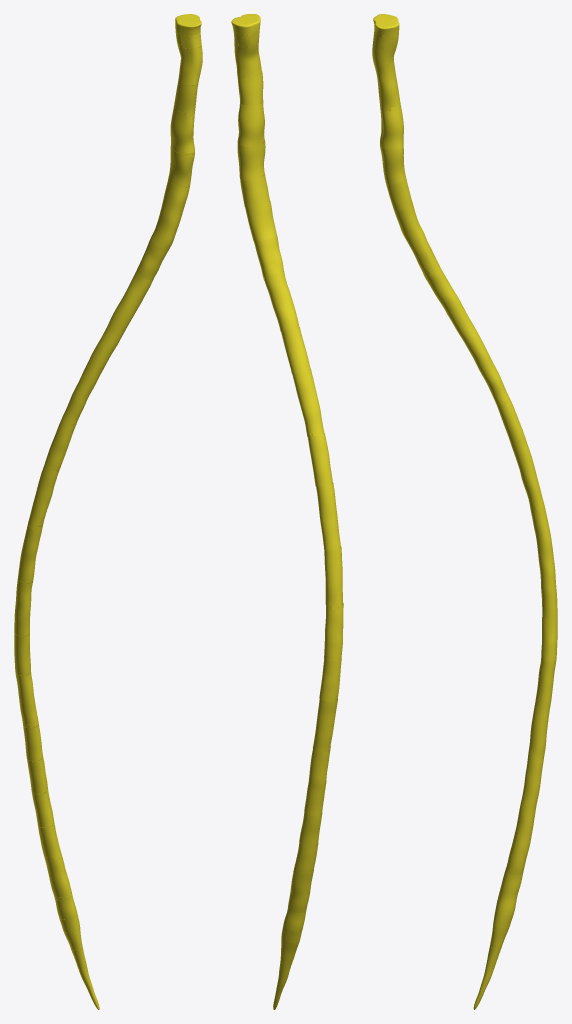
Rendered from VH_M_Spinal_Cord.fbx.
3 renders of one model, left to right at view 1: azimuth 90°, elevation 25°; view 2: azimuth 210°, elevation 25°; view 3: azimuth 270°, elevation 25°, orthographic. The views are drawn at different scales.
Visible parts, largest first — view 1: VH_M_second_thoracic_spinal_cord_segment, VH_M_fourth_thoracic_spinal_cord_segment, VH_M_sixth_thoracic_spinal_cord_segment, VH_M_C5_segment_of_cervical_spinal_cord, VH_M_seventh_thoracic_spinal_cord_segment, VH_M_eighth_thoracic_spinal_cord_segment, VH_M_tenth_thoracic_spinal_cord_segment, VH_M_C3_segment_of_cervical_spinal_cord, VH_M_fifth_thoracic_spinal_cord_segment, VH_M_C8_segment_of_cervical_spinal_cord, VH_M_C6_segment_of_cervical_spinal_cord, VH_M_third_thoracic_spinal_cord_segment (+9 smaller); view 2: VH_M_fourth_thoracic_spinal_cord_segment, VH_M_second_thoracic_spinal_cord_segment, VH_M_sixth_thoracic_spinal_cord_segment, VH_M_C5_segment_of_cervical_spinal_cord, VH_M_seventh_thoracic_spinal_cord_segment, VH_M_eighth_thoracic_spinal_cord_segment, VH_M_fifth_thoracic_spinal_cord_segment, VH_M_tenth_thoracic_spinal_cord_segment, VH_M_C8_segment_of_cervical_spinal_cord, VH_M_C6_segment_of_cervical_spinal_cord, VH_M_third_thoracic_spinal_cord_segment, VH_M_first_thoracic_spinal_cord_segment (+13 smaller); view 3: VH_M_second_thoracic_spinal_cord_segment, VH_M_fourth_thoracic_spinal_cord_segment, VH_M_sixth_thoracic_spinal_cord_segment, VH_M_C5_segment_of_cervical_spinal_cord, VH_M_tenth_thoracic_spinal_cord_segment, VH_M_seventh_thoracic_spinal_cord_segment, VH_M_eighth_thoracic_spinal_cord_segment, VH_M_fifth_thoracic_spinal_cord_segment, VH_M_C6_segment_of_cervical_spinal_cord, VH_M_C3_segment_of_cervical_spinal_cord, VH_M_third_thoracic_spinal_cord_segment, VH_M_ninth_thoracic_spinal_cord_segment (+9 smaller).
Boxes of the visible parts, x1,y1,x2,y2 form: VH_M_second_thoracic_spinal_cord_segment: [110, 270, 153, 330]; VH_M_fourth_thoracic_spinal_cord_segment: [62, 359, 103, 424]; VH_M_sixth_thoracic_spinal_cord_segment: [28, 464, 60, 529]; VH_M_C5_segment_of_cervical_spinal_cord: [170, 105, 194, 153]; VH_M_seventh_thoracic_spinal_cord_segment: [17, 524, 42, 582]; VH_M_eighth_thoracic_spinal_cord_segment: [14, 578, 32, 636]; VH_M_tenth_thoracic_spinal_cord_segment: [15, 669, 38, 728]; VH_M_C3_segment_of_cervical_spinal_cord: [177, 42, 202, 85]; VH_M_fifth_thoracic_spinal_cord_segment: [45, 417, 76, 470]; VH_M_C8_segment_of_cervical_spinal_cord: [151, 206, 182, 249]; VH_M_C6_segment_of_cervical_spinal_cord: [168, 146, 194, 187]; VH_M_third_thoracic_spinal_cord_segment: [89, 321, 124, 368]; VH_M_fourth_thoracic_spinal_cord_segment: [292, 369, 324, 436]; VH_M_second_thoracic_spinal_cord_segment: [264, 271, 299, 331]; VH_M_sixth_thoracic_spinal_cord_segment: [316, 483, 340, 550]; VH_M_C5_segment_of_cervical_spinal_cord: [237, 100, 264, 147]; VH_M_seventh_thoracic_spinal_cord_segment: [324, 547, 342, 609]; VH_M_eighth_thoracic_spinal_cord_segment: [324, 603, 343, 661]; VH_M_fifth_thoracic_spinal_cord_segment: [307, 433, 332, 486]; VH_M_tenth_thoracic_spinal_cord_segment: [313, 699, 337, 752]; VH_M_C8_segment_of_cervical_spinal_cord: [245, 200, 276, 241]; VH_M_C6_segment_of_cervical_spinal_cord: [237, 140, 265, 179]; VH_M_third_thoracic_spinal_cord_segment: [281, 327, 310, 373]; VH_M_first_thoracic_spinal_cord_segment: [254, 236, 283, 280]; VH_M_second_thoracic_spinal_cord_segment: [422, 261, 463, 317]; VH_M_fourth_thoracic_spinal_cord_segment: [470, 343, 510, 406]; VH_M_sixth_thoracic_spinal_cord_segment: [512, 445, 544, 509]; VH_M_C5_segment_of_cervical_spinal_cord: [380, 103, 403, 149]; VH_M_tenth_thoracic_spinal_cord_segment: [533, 658, 556, 716]; VH_M_seventh_thoracic_spinal_cord_segment: [529, 502, 554, 564]; VH_M_eighth_thoracic_spinal_cord_segment: [539, 562, 557, 618]; VH_M_fifth_thoracic_spinal_cord_segment: [497, 399, 527, 450]; VH_M_C6_segment_of_cervical_spinal_cord: [380, 143, 405, 183]; VH_M_C3_segment_of_cervical_spinal_cord: [372, 41, 396, 81]; VH_M_third_thoracic_spinal_cord_segment: [449, 307, 483, 352]; VH_M_ninth_thoracic_spinal_cord_segment: [541, 614, 557, 661].
Size of the model in its own units: 2.07 by 46.52 by 7.96.
